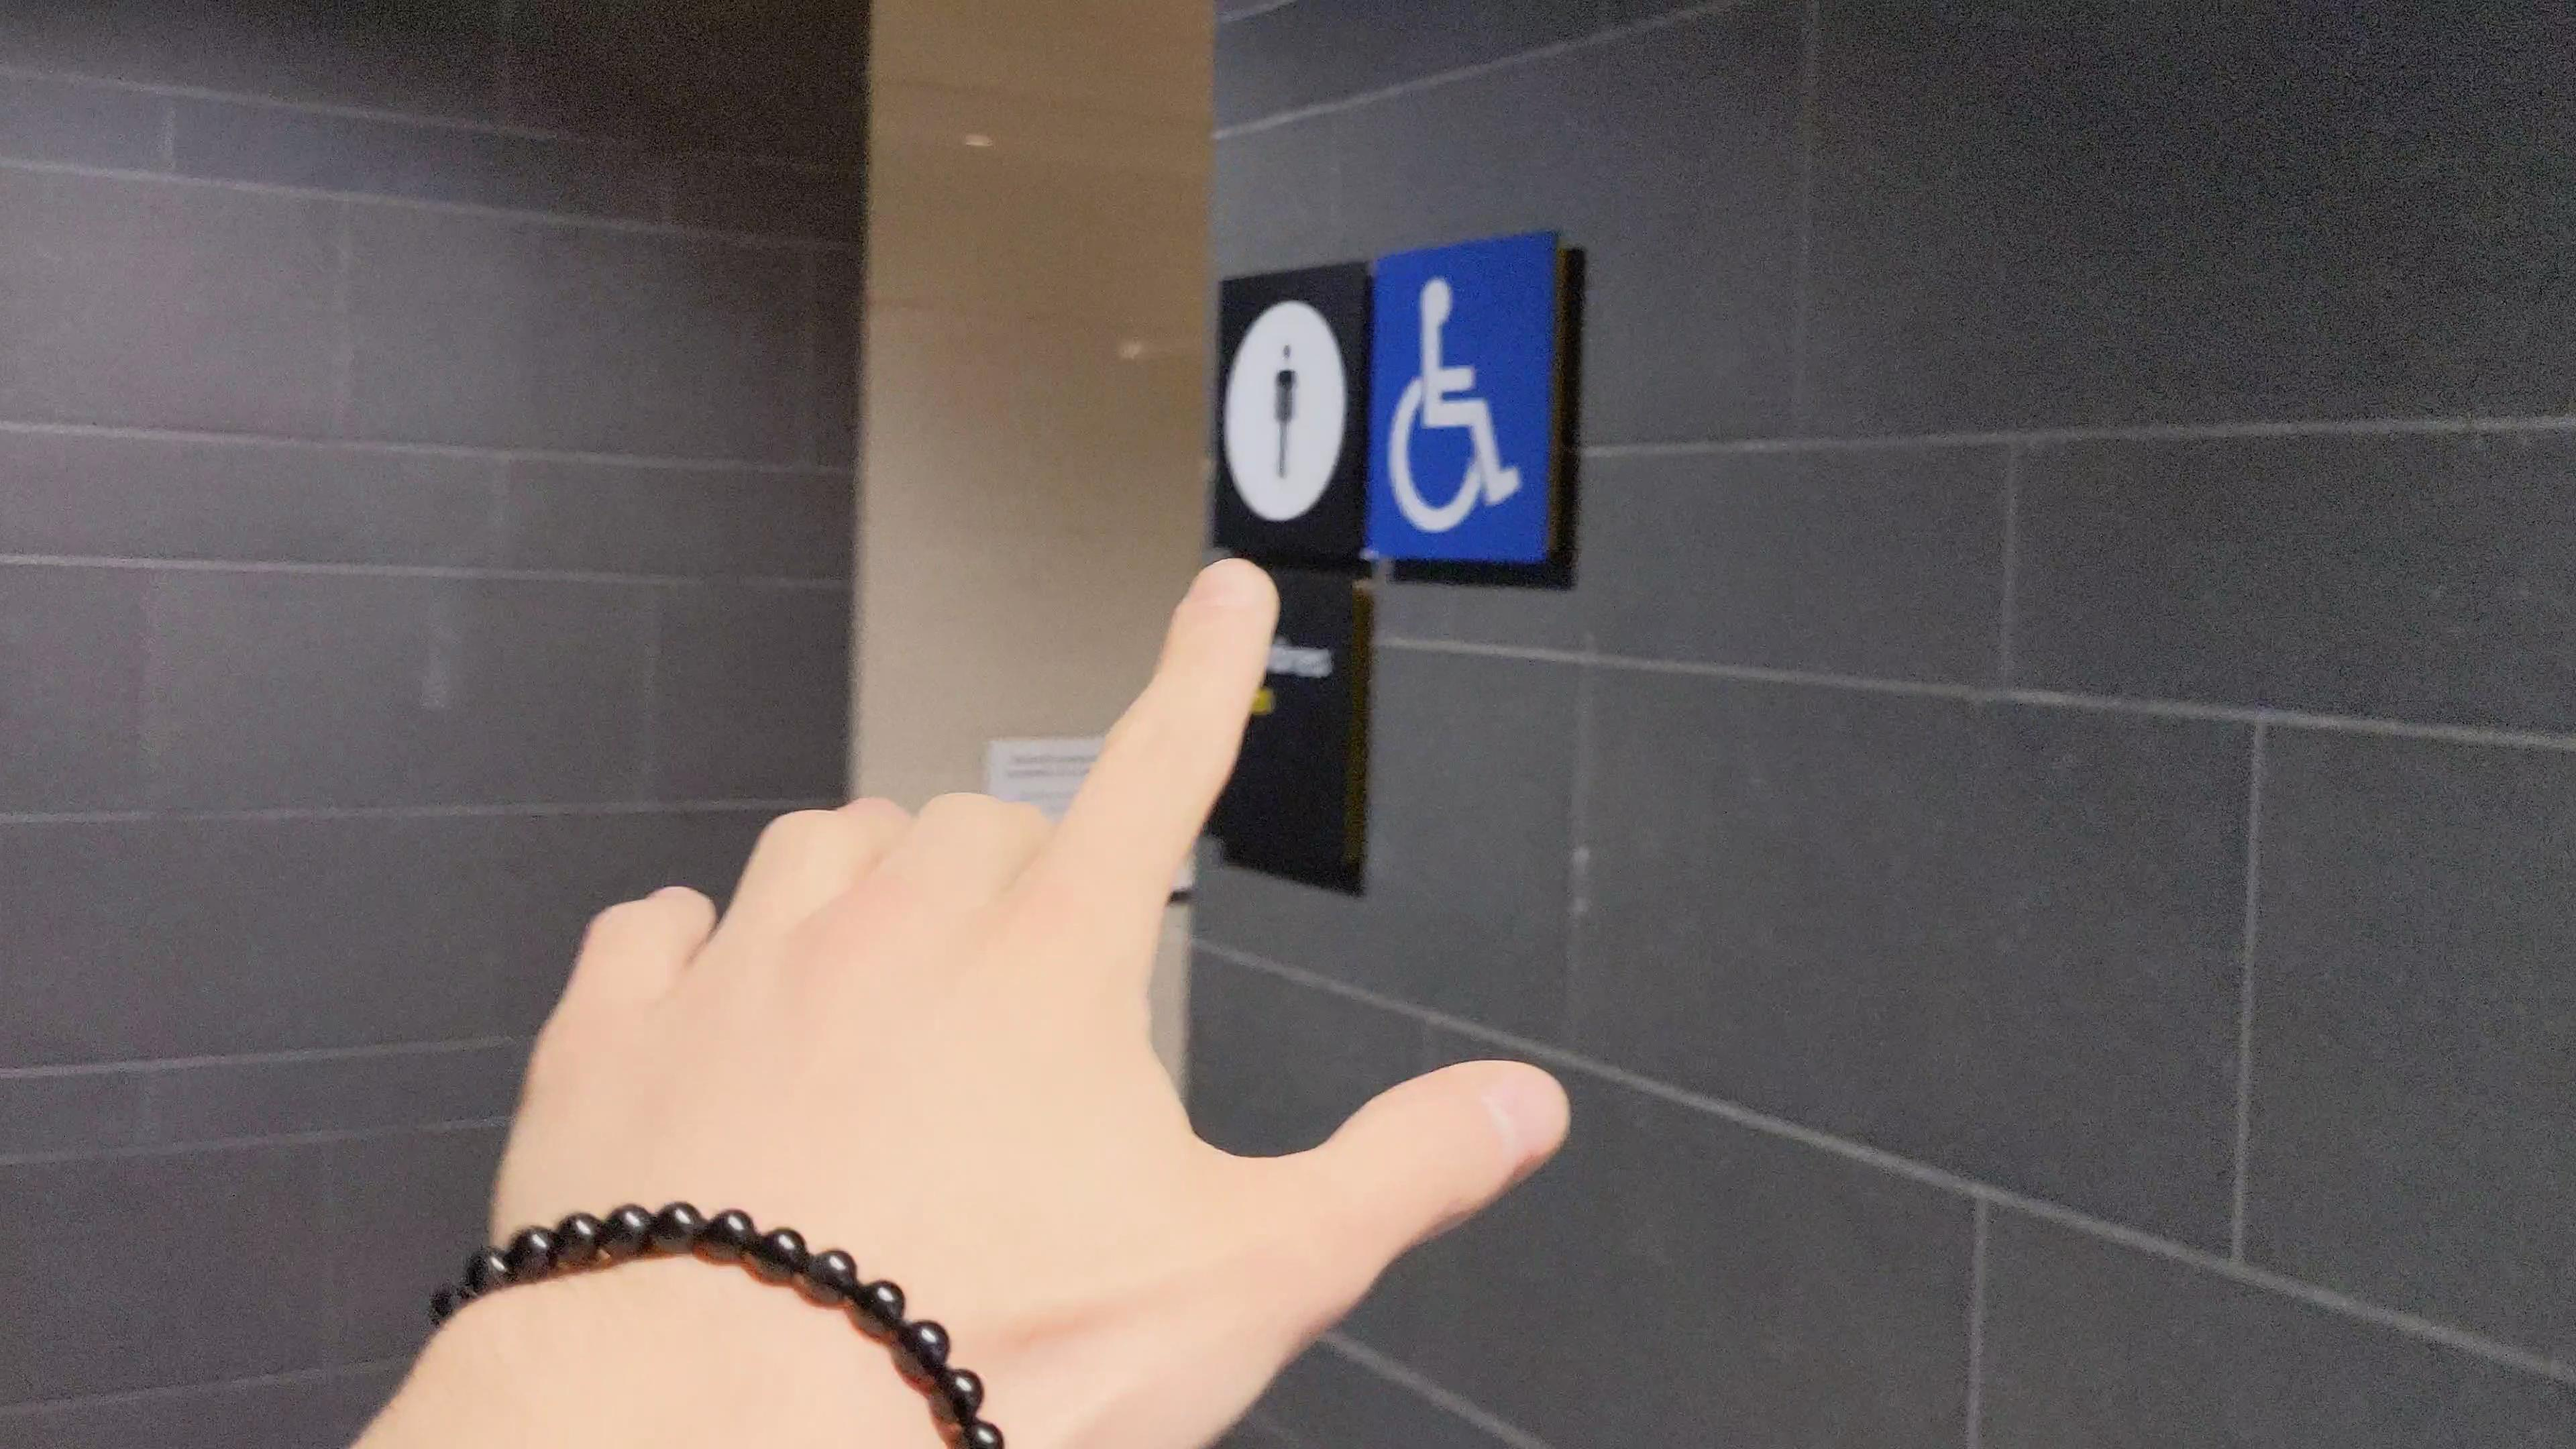handicapped symbol: (1382, 276, 1525, 538)
